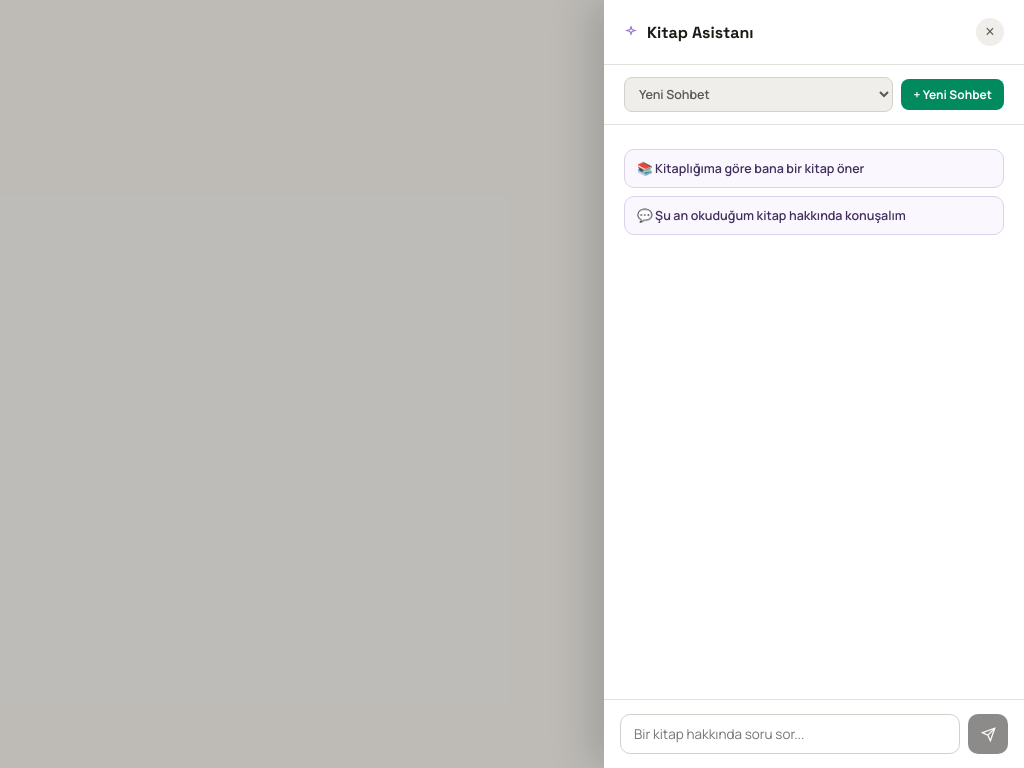
AiChatDrawer › says the assistant is busy, keeps the composer open and puts the unsent text back when Gemini stays busy
The image size is (1024, 768).
Type "Bilim kurgu onerir misin?" into the field with placeholder "Bir kitap hakkında soru sor..." at (790, 734), box [620,714,960,754]
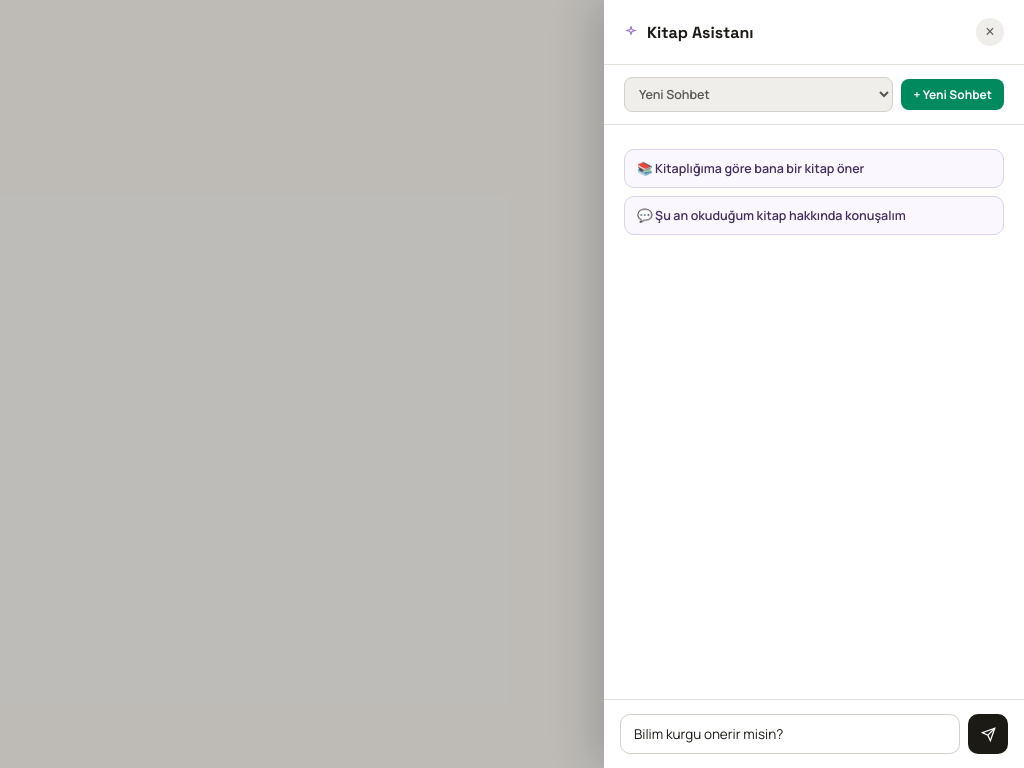
Click the button named "Gönder" at (988, 734), box [968,714,1008,754]
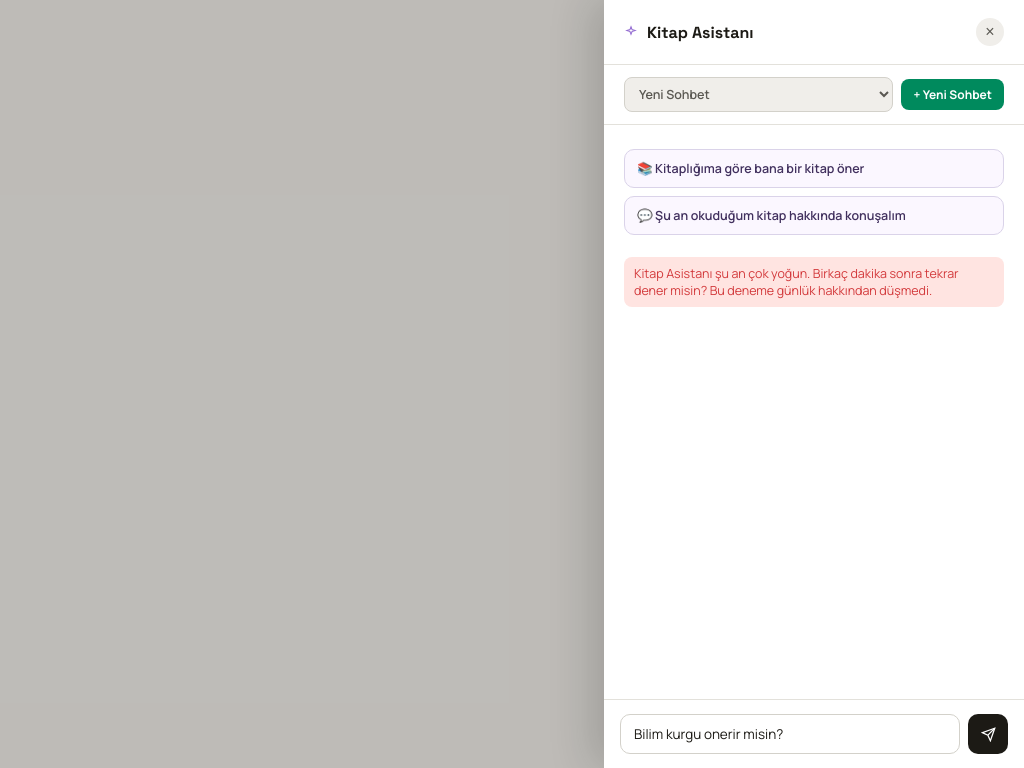
Expected: the field with placeholder "Bir kitap hakkında soru sor..." is enabled, [620,714,960,754]
Expected: the button named "Gönder" is enabled, [968,714,1008,754]
Expected: the text "Kitap Asistanı şu an çok yoğun. Birkaç dakika sonra tekrar dener misin? Bu deneme günlük hakkından düşmedi." is shown, [634,265,959,299]
